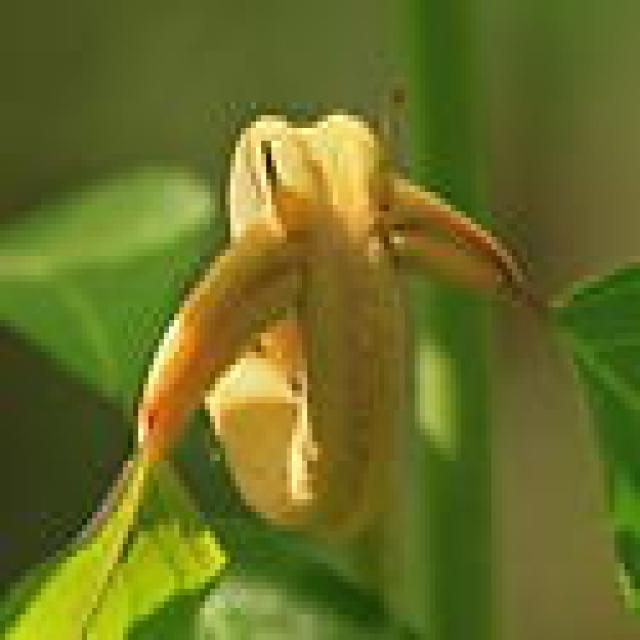Elderberry_rust: (136, 118, 550, 561)
